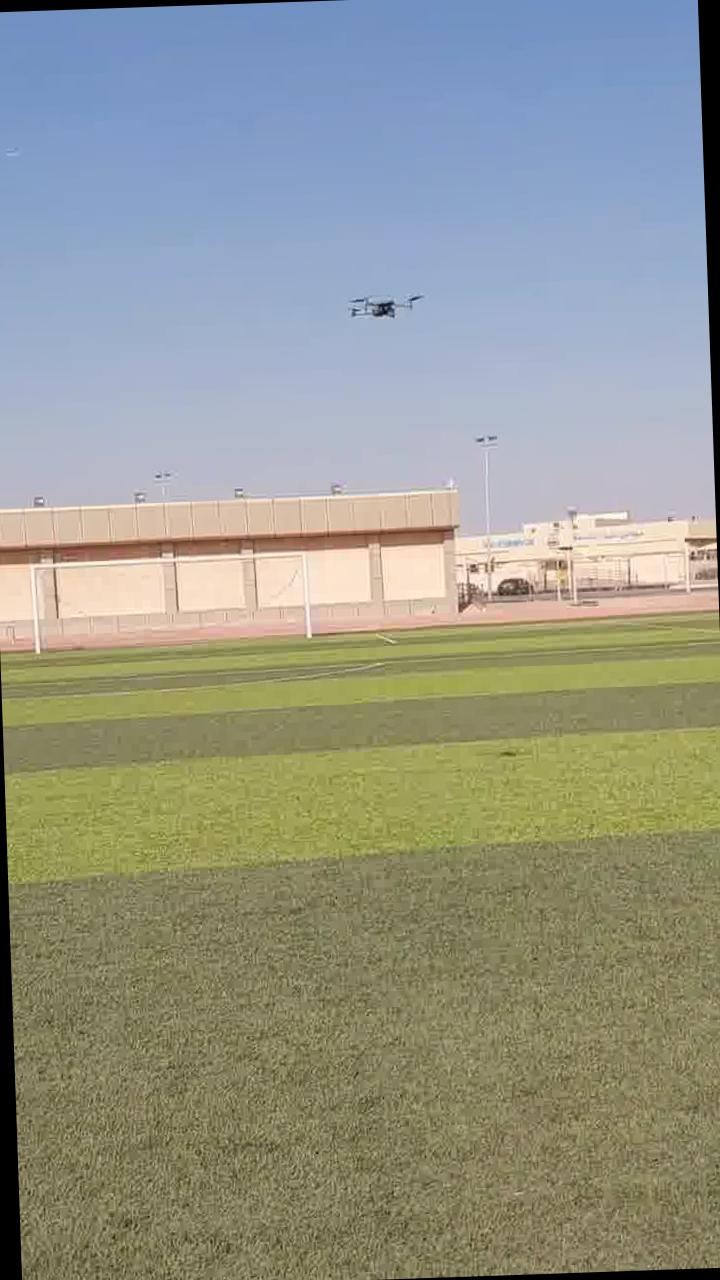drone: (336, 276, 430, 334)
